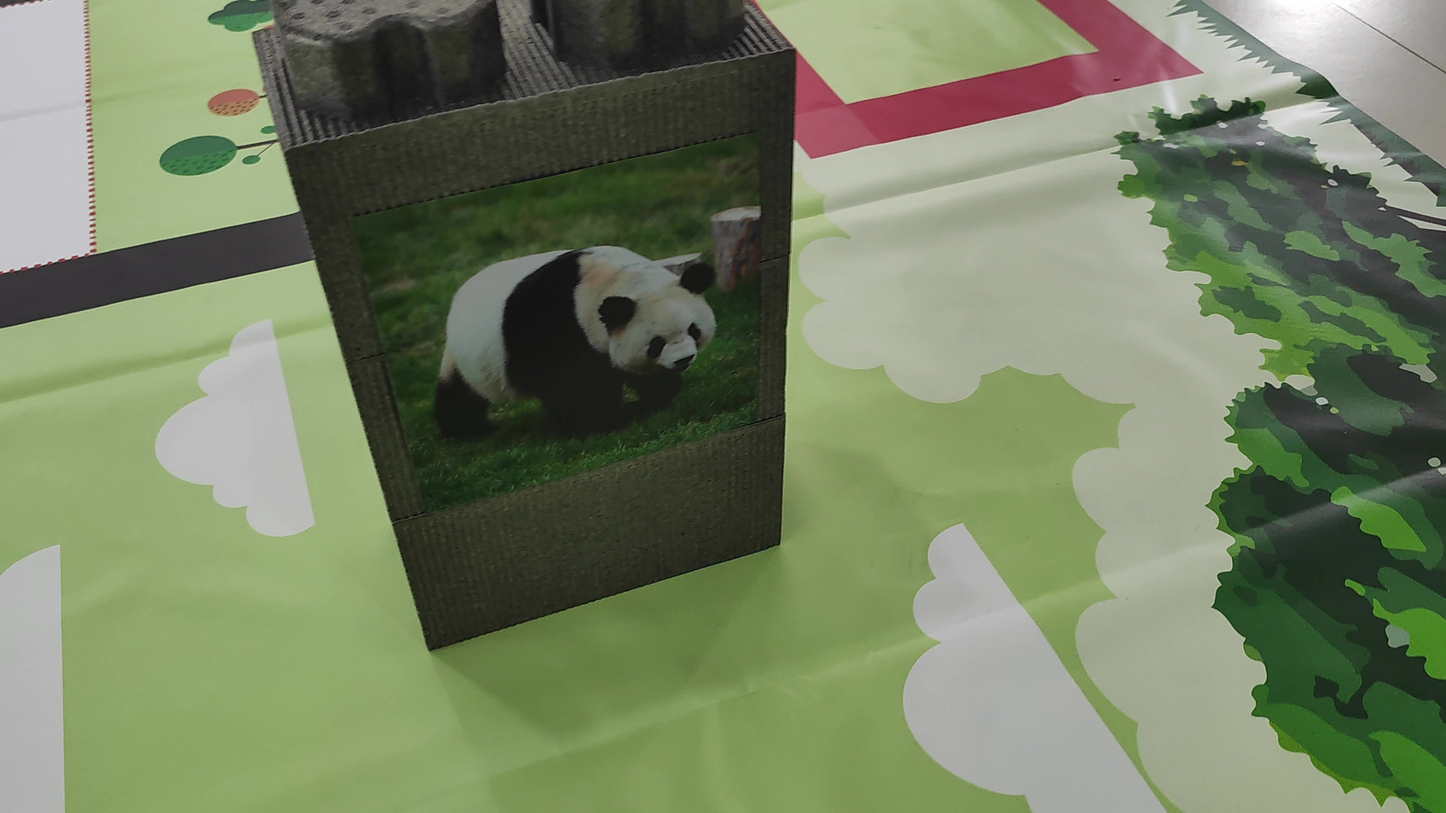panda: (406, 196, 741, 456)
